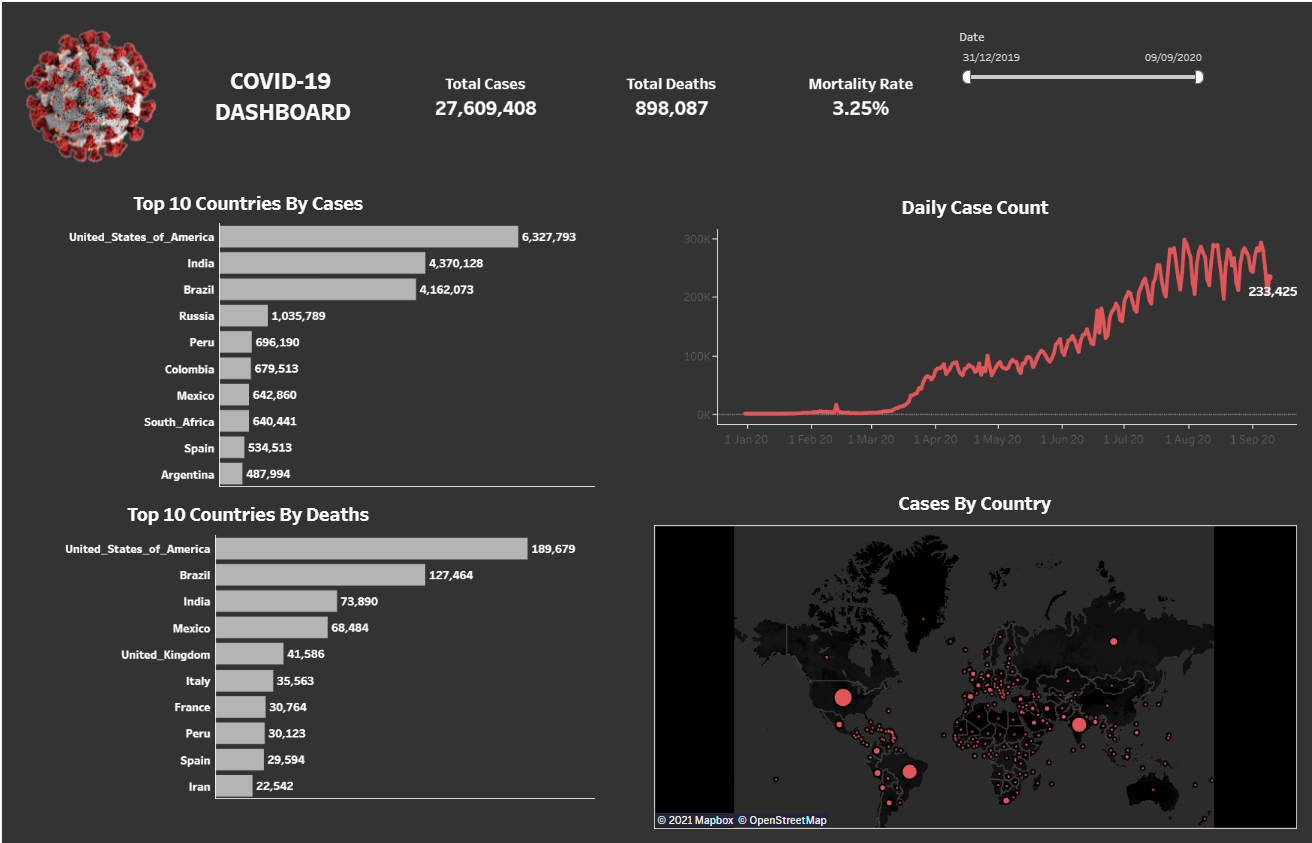

The page's visual inventory and layout, read from the dashboard file:
{"tool":"tableau","page":{"name":"Covid-19 Dashboard ","canvas":[1400,900],"ordinal":0},"visuals":[{"type":"image","param":"C:/Users/anime/Downloads/covid+19_image.png","box":[19,25,164,151]},{"type":"text","box":[183,25,233,151]},{"type":"worksheet","title":"Total Cases","mark":"Automatic","box":[416,25,199,151]},{"type":"worksheet","title":"Total Deaths","mark":"Automatic","box":[615,25,199,151]},{"type":"worksheet","title":"Mortality Rate","mark":"Automatic","box":[814,25,203,151]},{"type":"filter","title":"Daily Cases","param":"[federated.12ztlyd07niqym12myjlp0gvbvw1].[none:dateRep:qk]","box":[1017,25,271,151]},{"type":"worksheet","title":"Top 10 Countries By Cases ","mark":"Automatic","rows":["countriesAndTerritories"],"cols":["cases"],"box":[15,189,621,332.4]},{"type":"worksheet","title":"Daily Cases","mark":"Automatic","rows":["cases"],"cols":["dateRep"],"box":[691,195,694,316]},{"type":"worksheet","title":"Word Map","mark":"Automatic","box":[691,511,694,375]},{"type":"worksheet","title":"Top 15 Countries By Deaths","mark":"Automatic","rows":["countriesAndTerritories"],"cols":["deaths"],"box":[15,521.4,621,332.4]}]}

Visuals, with their boxes in screenshot pixels (x1, y1, x2, y2), scaled from the page's 1400x900 canvas onto the 1312x843 screenshot:
image: Rect(18, 23, 171, 165)
text: Rect(171, 23, 390, 165)
"Total Cases" worksheet: Rect(390, 23, 576, 165)
"Total Deaths" worksheet: Rect(576, 23, 763, 165)
"Mortality Rate" worksheet: Rect(763, 23, 953, 165)
"Daily Cases" filter: Rect(953, 23, 1207, 165)
"Top 10 Countries By Cases " worksheet: Rect(14, 177, 596, 488)
"Daily Cases" worksheet: Rect(648, 183, 1298, 479)
"Word Map" worksheet: Rect(648, 479, 1298, 830)
"Top 15 Countries By Deaths" worksheet: Rect(14, 488, 596, 800)
